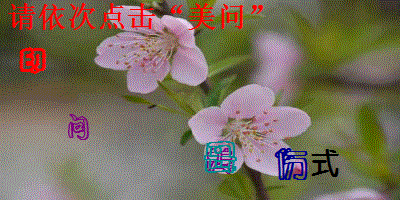text: (204, 140, 238, 175), (273, 147, 308, 181), (310, 149, 341, 178), (18, 46, 48, 75), (204, 146, 235, 174), (65, 111, 91, 142)
